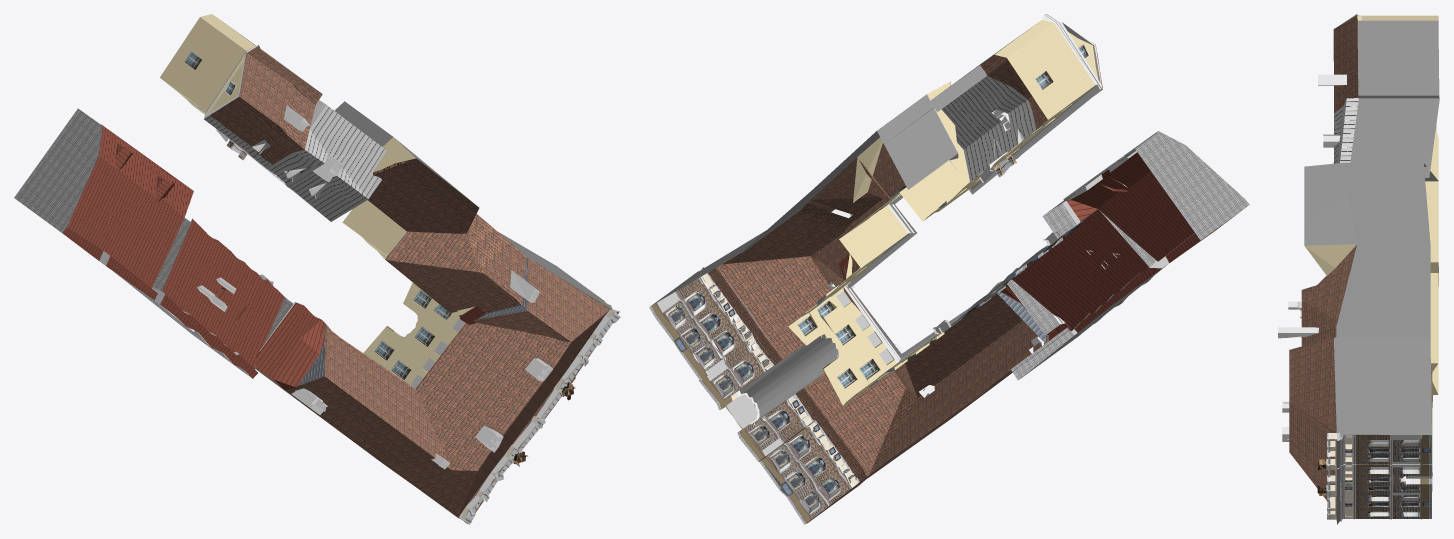
The model's file is Lai_9-origo.obj.
The picture shows the model from 3 angles, left to right: view 1: azimuth 30°, elevation 25°; view 2: azimuth 150°, elevation 25°; view 3: azimuth 270°, elevation 25°; orthographic projection. The views are drawn at different scales.
Visible parts, largest first — view 1: Lai_9, xxx; view 2: Lai_9, xxx; view 3: xxx, Lai_9.
Boxes of the visible parts, x1,y1,x2,y2 form: Lai_9: [14, 14, 620, 524]; xxx: [223, 22, 605, 305]; Lai_9: [649, 14, 1249, 524]; xxx: [651, 26, 1032, 305]; xxx: [1304, 20, 1439, 434]; Lai_9: [1278, 14, 1438, 524].
Size of the model in its own units: 61.88 by 56 by 19.14.
